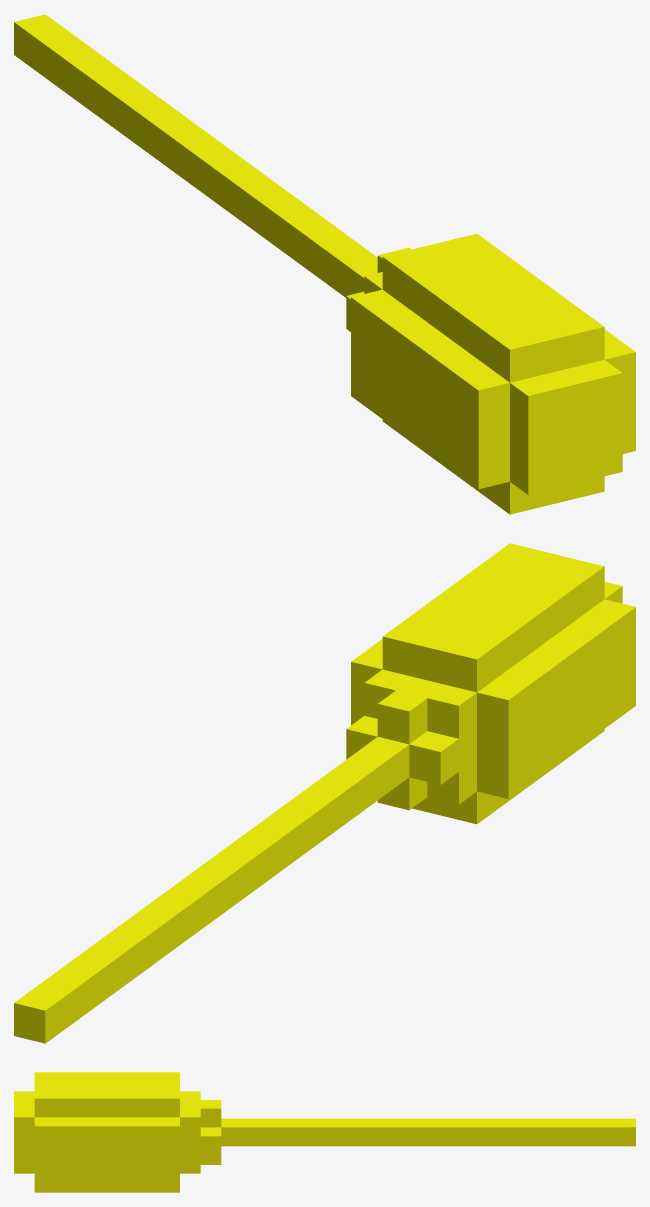
The model's file is voxel-rangers-mace.glb.
The picture shows the model from 3 angles, top to bottom: view 1: azimuth 30°, elevation 25°; view 2: azimuth 150°, elevation 25°; view 3: azimuth 270°, elevation 25°; orthographic projection. The views are drawn at different scales.
Parts seen in each view (by area): view 1: VS_Rangers_Props_Mace_001; view 2: VS_Rangers_Props_Mace_001; view 3: VS_Rangers_Props_Mace_001.
Boxes of the visible parts, x1,y1,x2,y2 form: VS_Rangers_Props_Mace_001: (14, 14, 635, 514); VS_Rangers_Props_Mace_001: (14, 543, 635, 1043); VS_Rangers_Props_Mace_001: (14, 1072, 635, 1192).
Size of the model in its own units: 0.4999 by 0.4999 by 3.
